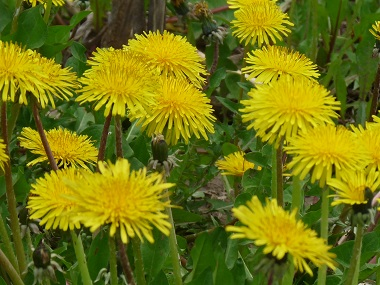dandelion: (37, 171, 175, 231), (297, 136, 380, 199), (240, 197, 313, 261), (144, 79, 214, 135), (81, 57, 152, 110), (3, 46, 64, 106), (248, 88, 332, 130), (20, 129, 102, 167), (138, 29, 204, 73), (244, 41, 317, 77), (230, 6, 287, 44), (223, 143, 250, 177)
